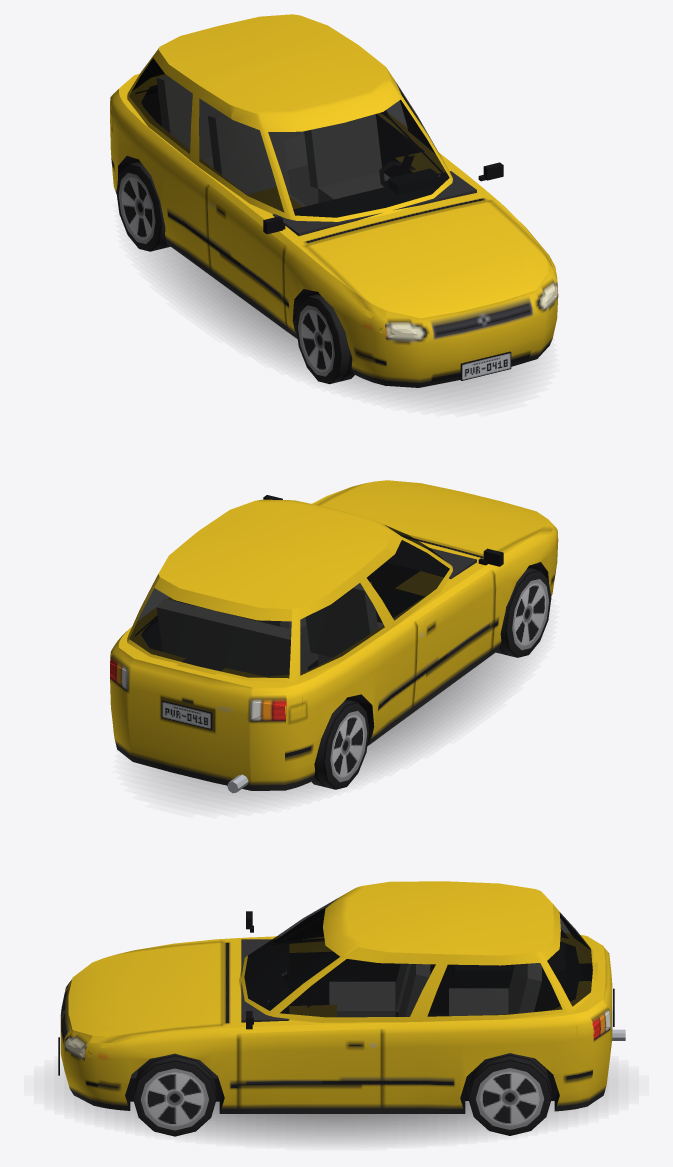
The model's file is polvora.glb.
3 renders of one model, top to bottom at view 1: azimuth 30°, elevation 25°; view 2: azimuth 150°, elevation 25°; view 3: azimuth 270°, elevation 25°, orthographic. The views are drawn at different scales.
Parts seen in each view (by area): view 1: Carroceria, Interior, Capo_malha, Porta_D_malha, Sombra, Roda_DD, Roda_TD, Porta_E_malha, Farol; view 2: Carroceria, Tampa_malha, Interior, Capo_malha, Porta_D_malha, Sombra, Roda_TD, Roda_DD, Lanterna; view 3: Carroceria, Interior, Porta_E_malha, Capo_malha, Sombra, Roda_DE, Roda_TE, Tampa_malha, Porta_D_malha.
Part boxes in pixels (<box>): Carroceria: <box>110,14,558,387</box>; Interior: <box>136,76,476,236</box>; Capo_malha: <box>305,200,553,318</box>; Porta_D_malha: <box>206,107,290,323</box>; Sombra: <box>148,247,530,401</box>; Roda_DD: <box>295,294,354,384</box>; Roda_TD: <box>116,161,170,251</box>; Porta_E_malha: <box>387,71,503,181</box>; Farol: <box>379,285,557,340</box>; Carroceria: <box>110,483,558,793</box>; Tampa_malha: <box>128,577,291,770</box>; Interior: <box>135,541,476,675</box>; Capo_malha: <box>317,480,553,554</box>; Porta_D_malha: <box>387,533,503,704</box>; Sombra: <box>142,653,524,802</box>; Roda_TD: <box>311,699,369,789</box>; Roda_DD: <box>496,567,551,657</box>; Lanterna: <box>110,663,302,719</box>; Carroceria: <box>58,881,625,1113</box>; Interior: <box>130,916,592,1078</box>; Porta_E_malha: <box>238,947,382,1106</box>; Capo_malha: <box>74,941,222,1042</box>; Sombra: <box>64,1075,608,1142</box>; Roda_DE: <box>133,1053,216,1136</box>; Roda_TE: <box>468,1053,551,1135</box>; Tampa_malha: <box>541,904,614,1053</box>; Porta_D_malha: <box>246,908,324,942</box>.
Size of the model in its own units: 2.4 by 1.45 by 4.85.
12 materials, 6 textured.
